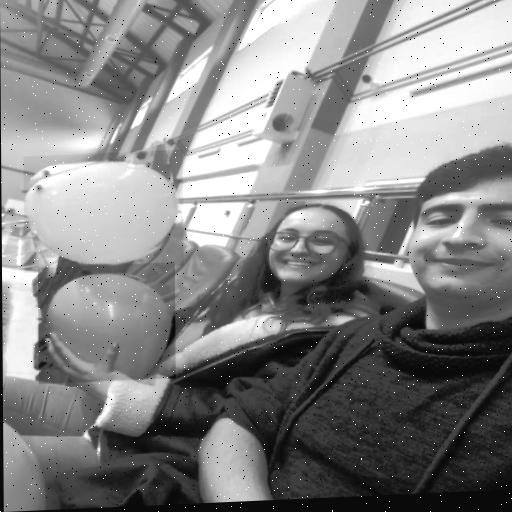balloon: (24, 149, 184, 272), (38, 262, 176, 384)
